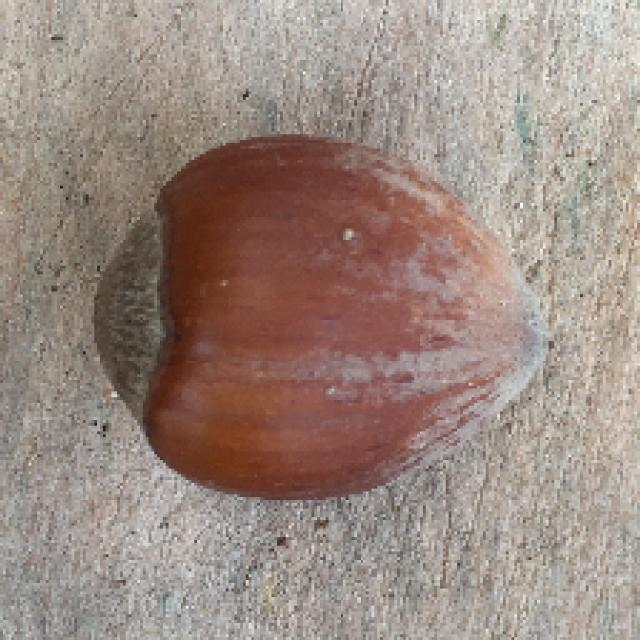qualityHazelnut: (94, 135, 551, 508)
